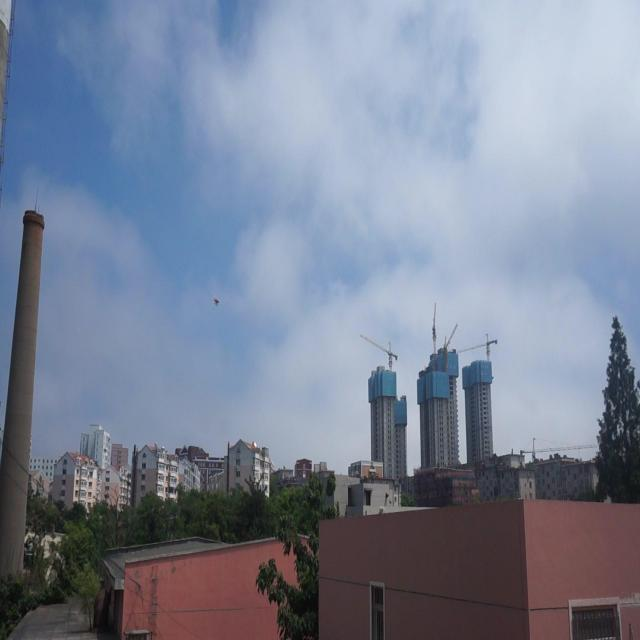UAV: (212, 294, 222, 306)
